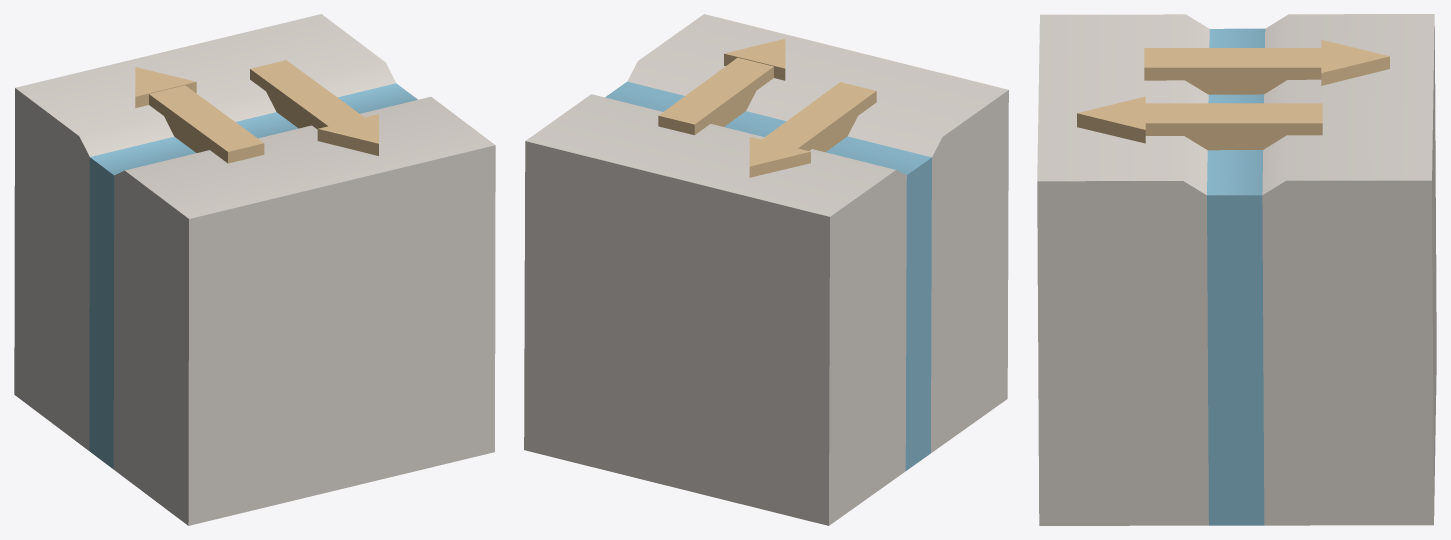
The model's file is exchange.fbx.
The picture shows the model from 3 angles, left to right: view 1: azimuth 30°, elevation 25°; view 2: azimuth 150°, elevation 25°; view 3: azimuth 270°, elevation 25°; orthographic projection. The views are drawn at different scales.
Parts seen in each view (by area): view 1: polySurface132; view 2: polySurface132; view 3: polySurface132.
Boxes of the visible parts, bbox=[...] form: polySurface132: bbox=[14, 14, 495, 525]; polySurface132: bbox=[524, 14, 1008, 525]; polySurface132: bbox=[1037, 14, 1436, 525].
Size of the model in its own units: 2.02 by 2.01 by 2.02.
